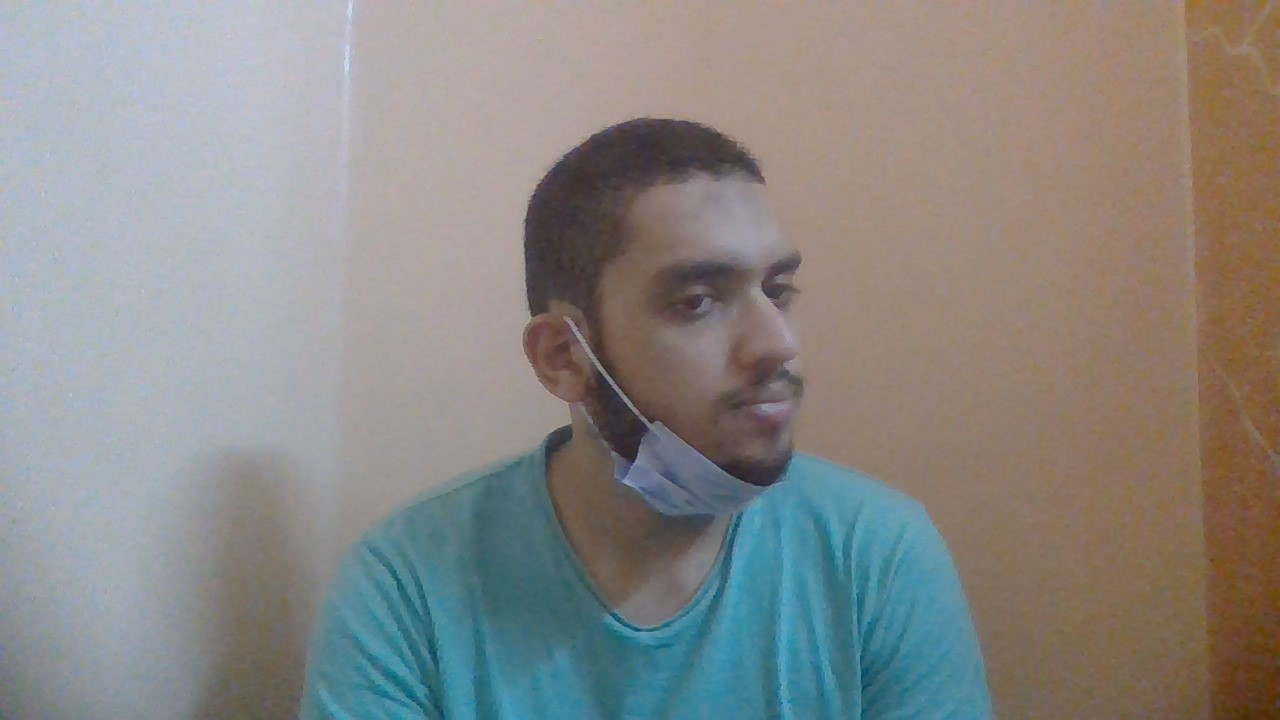Nomask: (538, 318, 809, 515)
